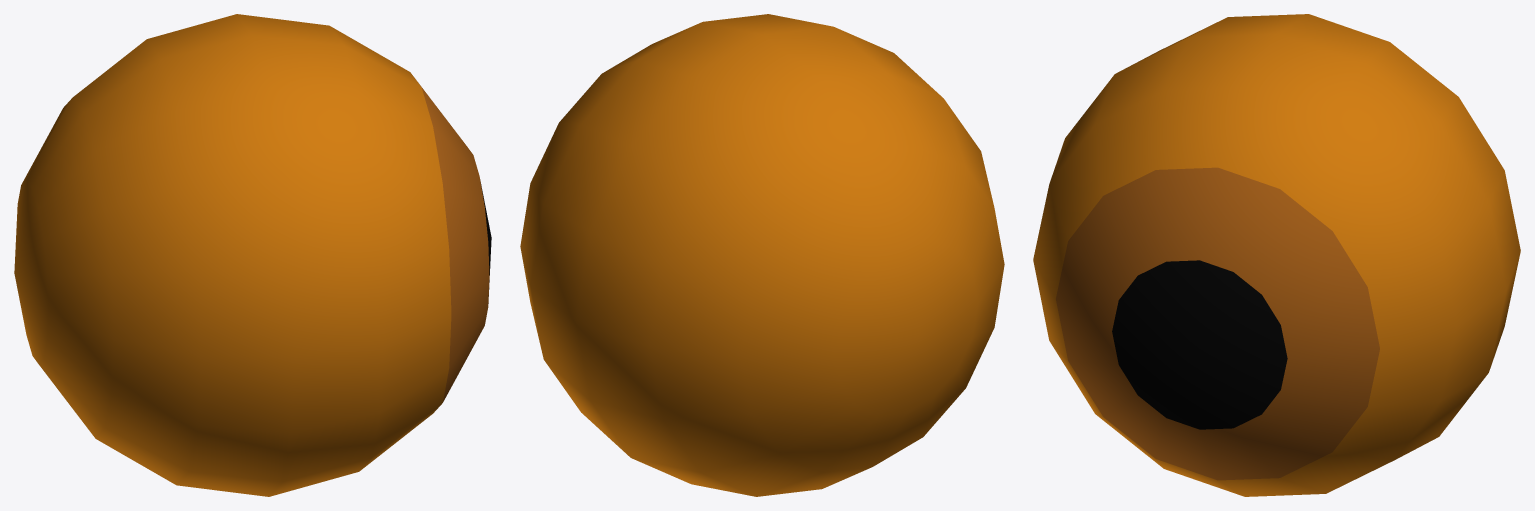
The model's file is pheasant_eye.obj.
3 renders of one model, left to right at view 1: azimuth 30°, elevation 25°; view 2: azimuth 150°, elevation 25°; view 3: azimuth 270°, elevation 25°, orthographic.
Visible parts, largest first — view 1: eye; view 2: eye; view 3: eye.
Part boxes in pixels (x1,y1,x2,y2): eye: (14, 14, 491, 496); eye: (520, 14, 1004, 496); eye: (1033, 14, 1520, 496).
Bounding box in the file's own units: 0.0132 × 0.0132 × 0.0132.
